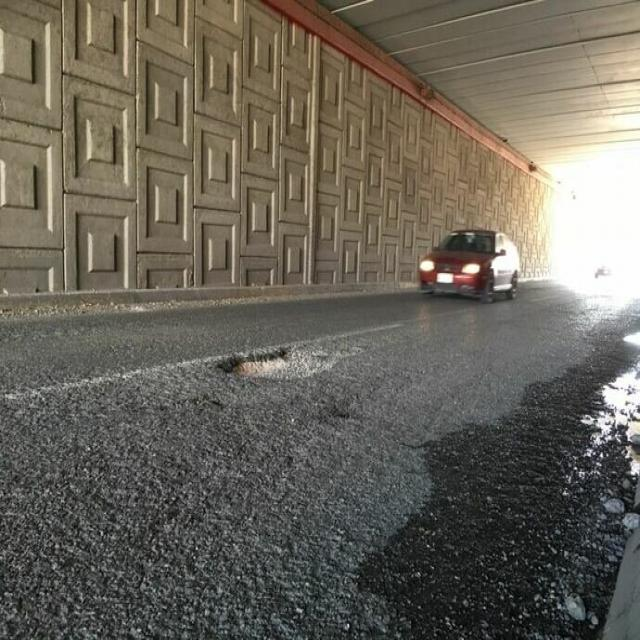pothole: (212, 317, 423, 470)
